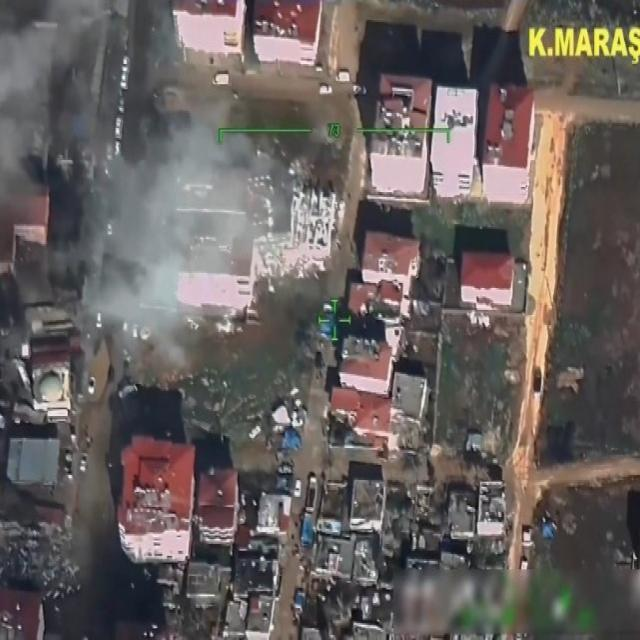Rubble: (254, 170, 336, 268)
